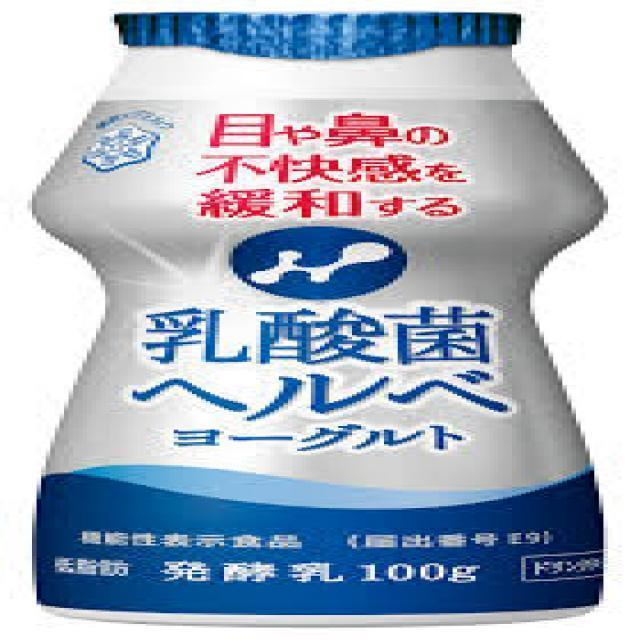Plastic: (28, 13, 603, 626)
